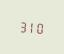one: (27, 19, 34, 34)
three: (18, 19, 25, 33)
zero: (35, 20, 42, 34)
